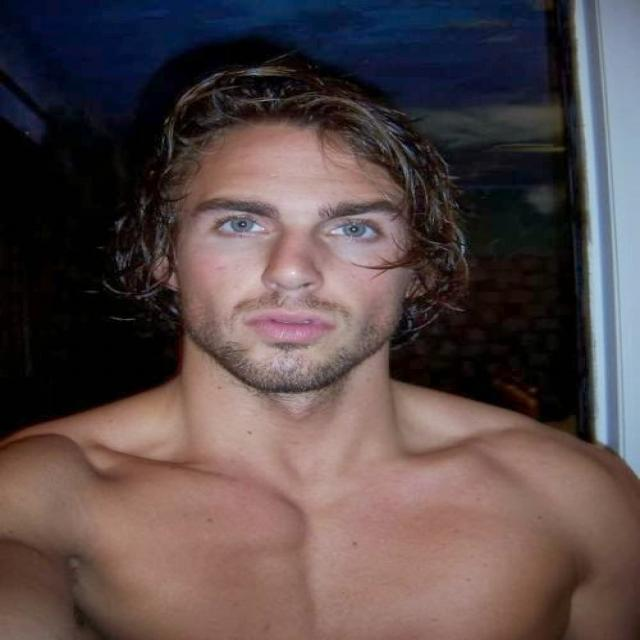earlobe: (148, 245, 178, 291)
